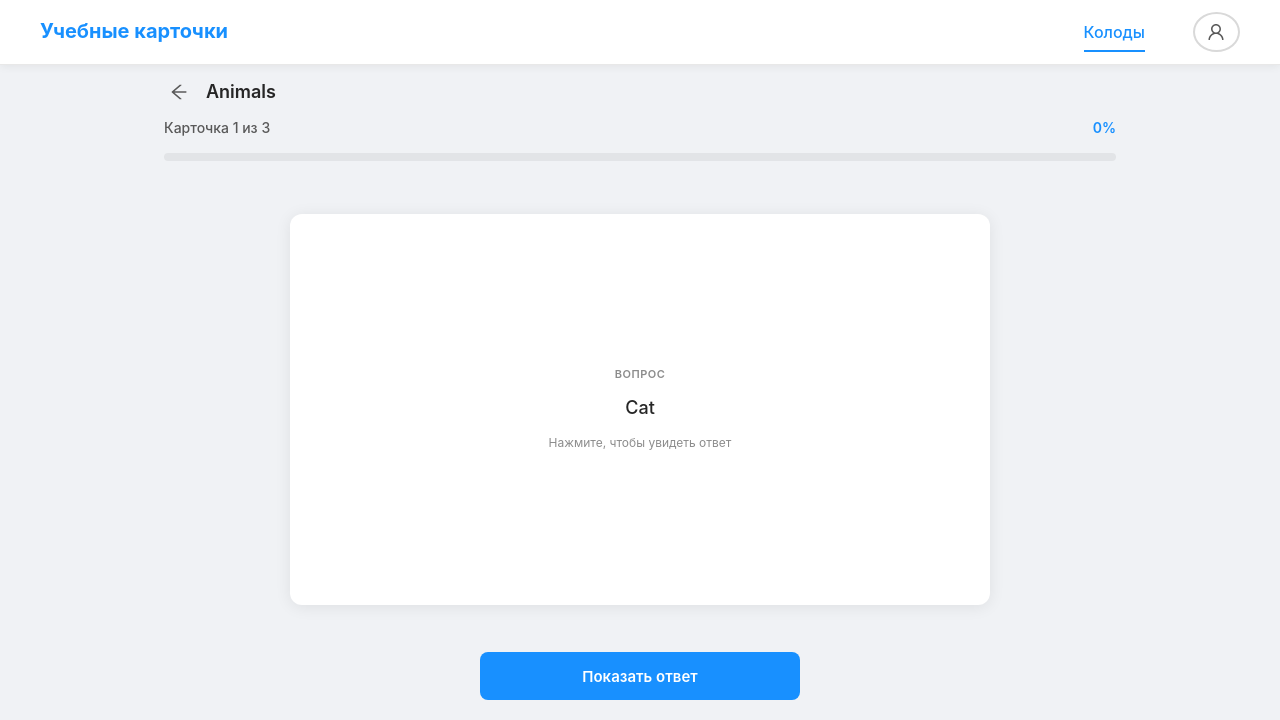
Test case: IT-F-03.1 Прохождение сессии обучения с подсчетом результатов › проходит 3 карточки и отправляет результаты remembered/forgotten/remembered
expect the text "Cat" is shown: met, box [625,395,655,420]
expect the text "Карточка 1 из 3" is shown: met, box [164,117,270,139]
Click the button "Показать ответ".
click(640, 676)  # box [480,652,800,700]
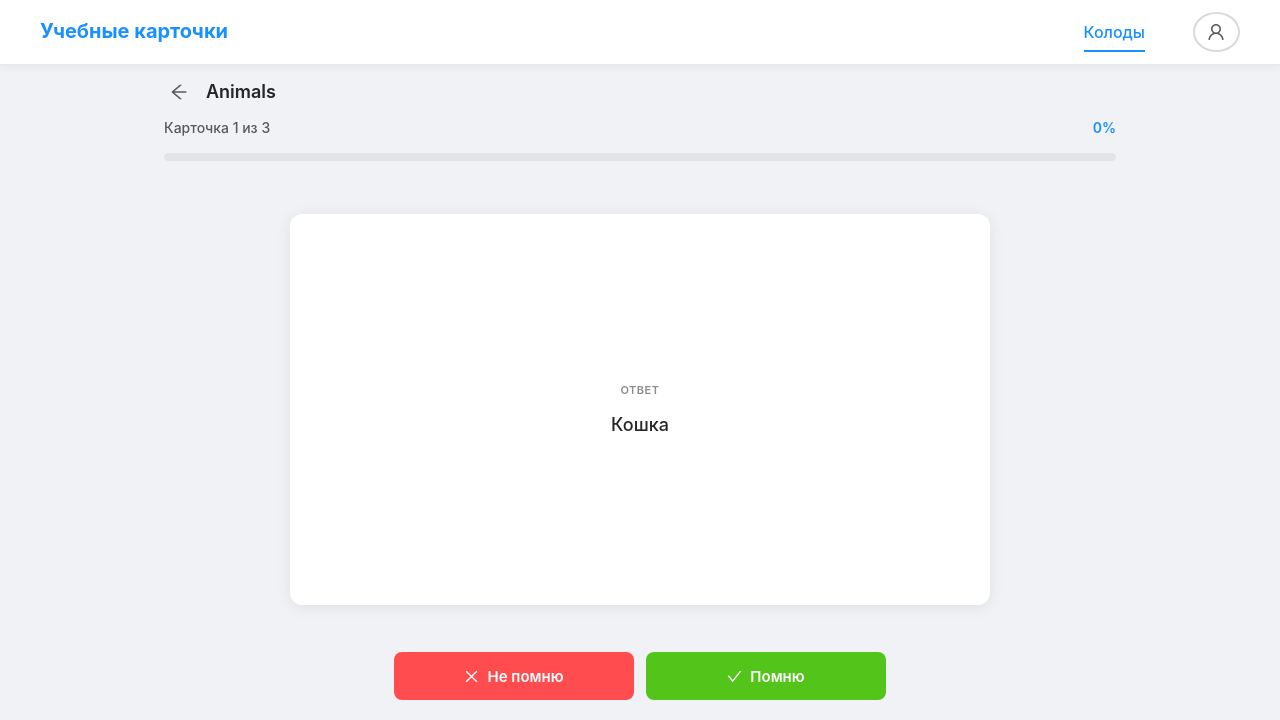
expect the text "Кошка" is shown: met, box [611,412,669,437]
expect the button named "check Помню" is enabled: met
expect the button named "close Не помню" is enabled: met, box [394,652,634,700]
Click the button named "check Помню".
click(766, 676)  # box [646,652,886,700]
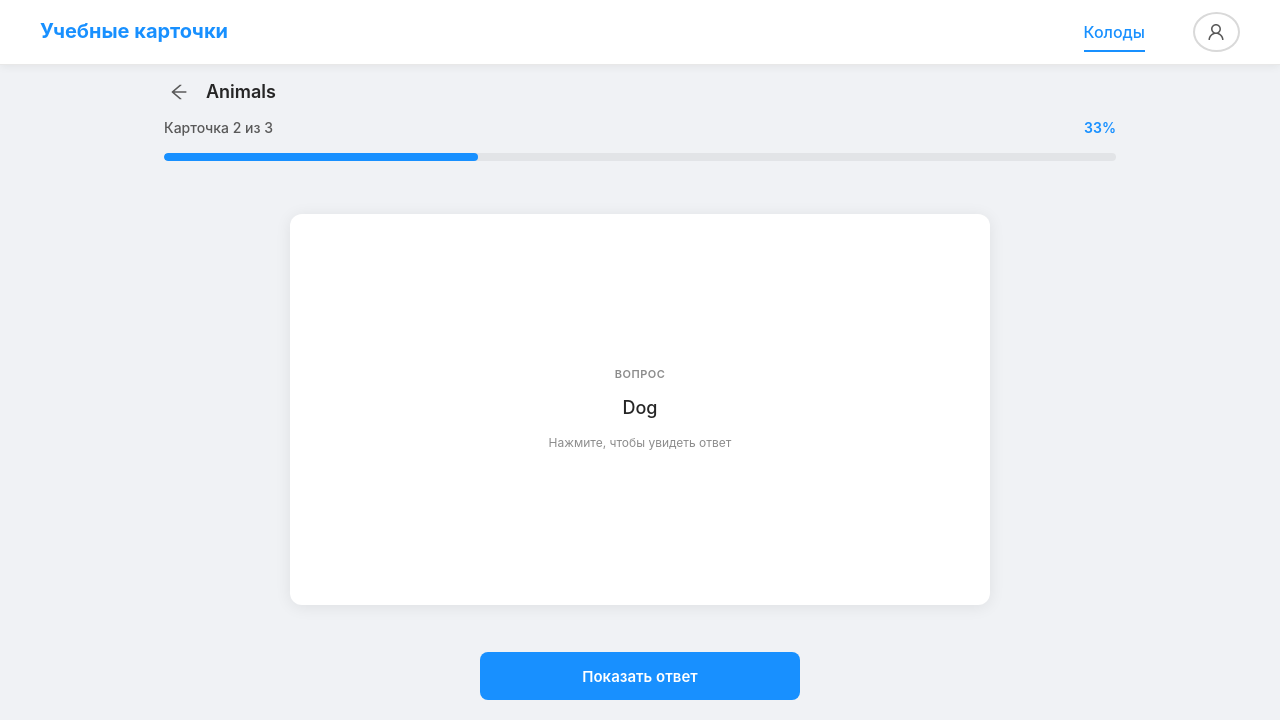
expect the text "Dog" is shown: met, box [622,395,658,420]
expect the text "Карточка 2 из 3" is shown: met, box [164,117,273,139]
Click the button "Показать ответ".
click(640, 676)  # box [480,652,800,700]
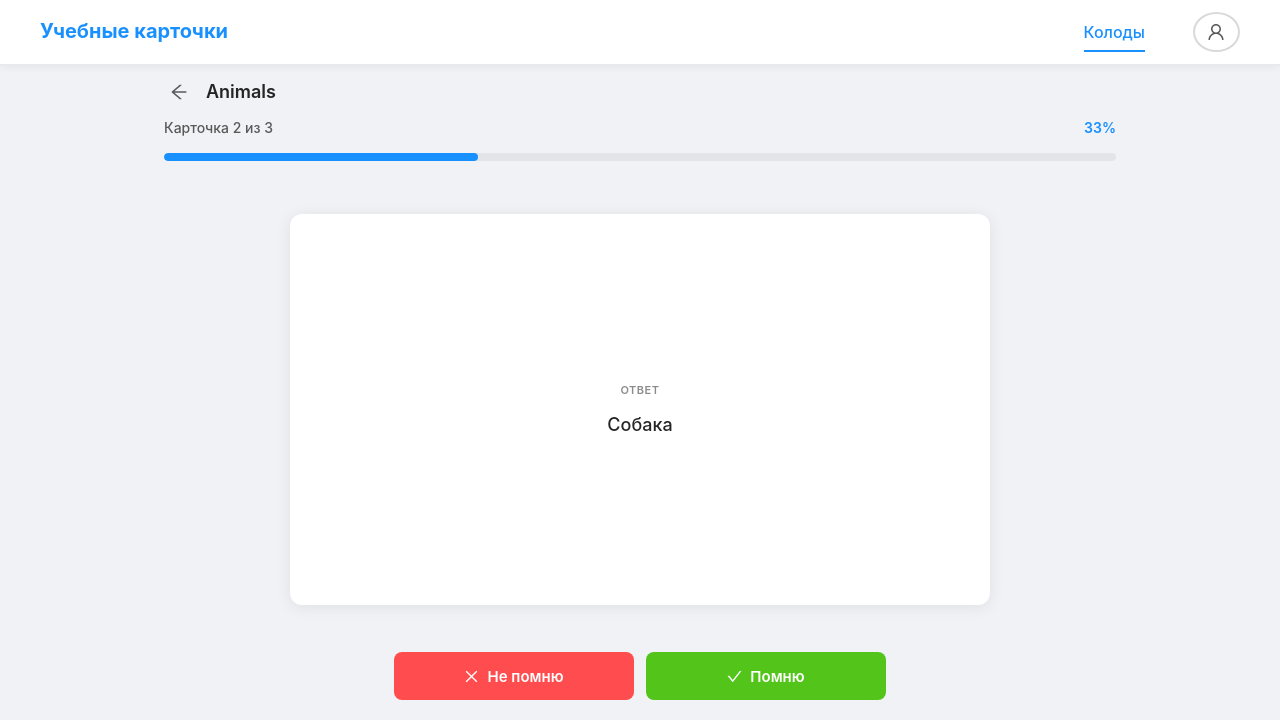
Click the button named "close Не помню".
click(514, 676)  # box [394,652,634,700]
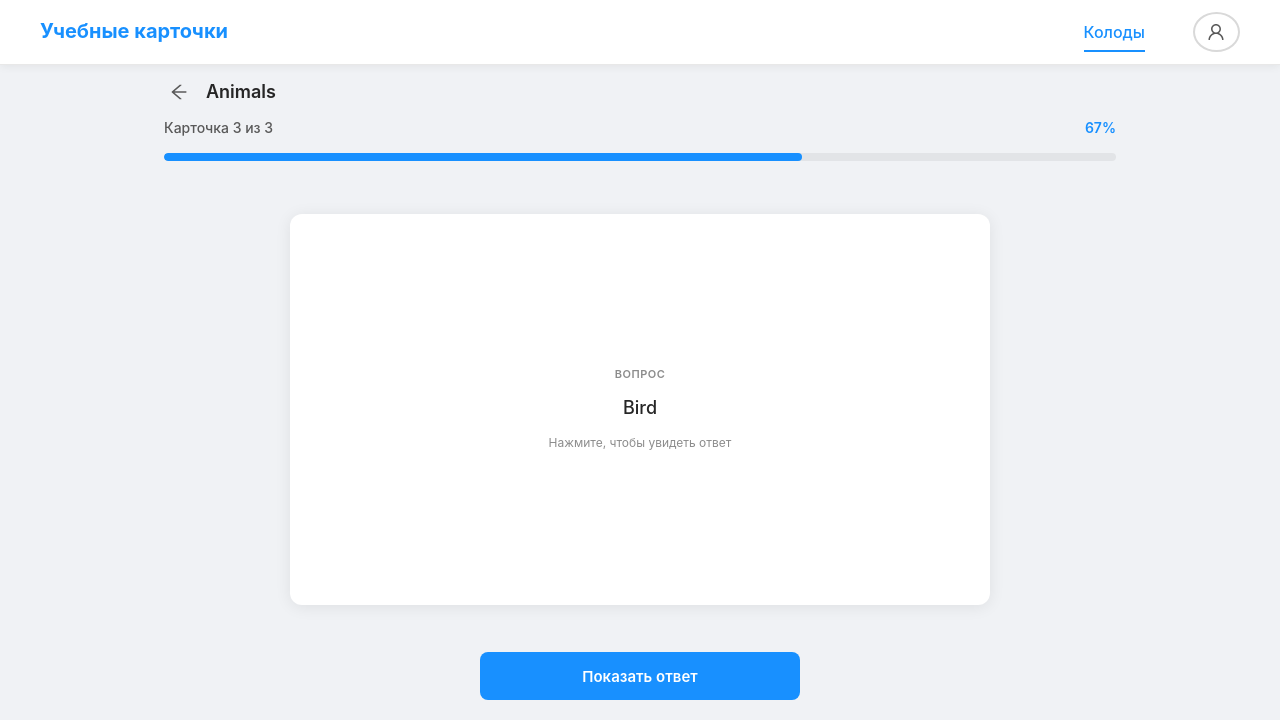
expect the text "Bird" is shown: met, box [623,395,657,420]
Click the button "Показать ответ".
click(640, 676)  # box [480,652,800,700]
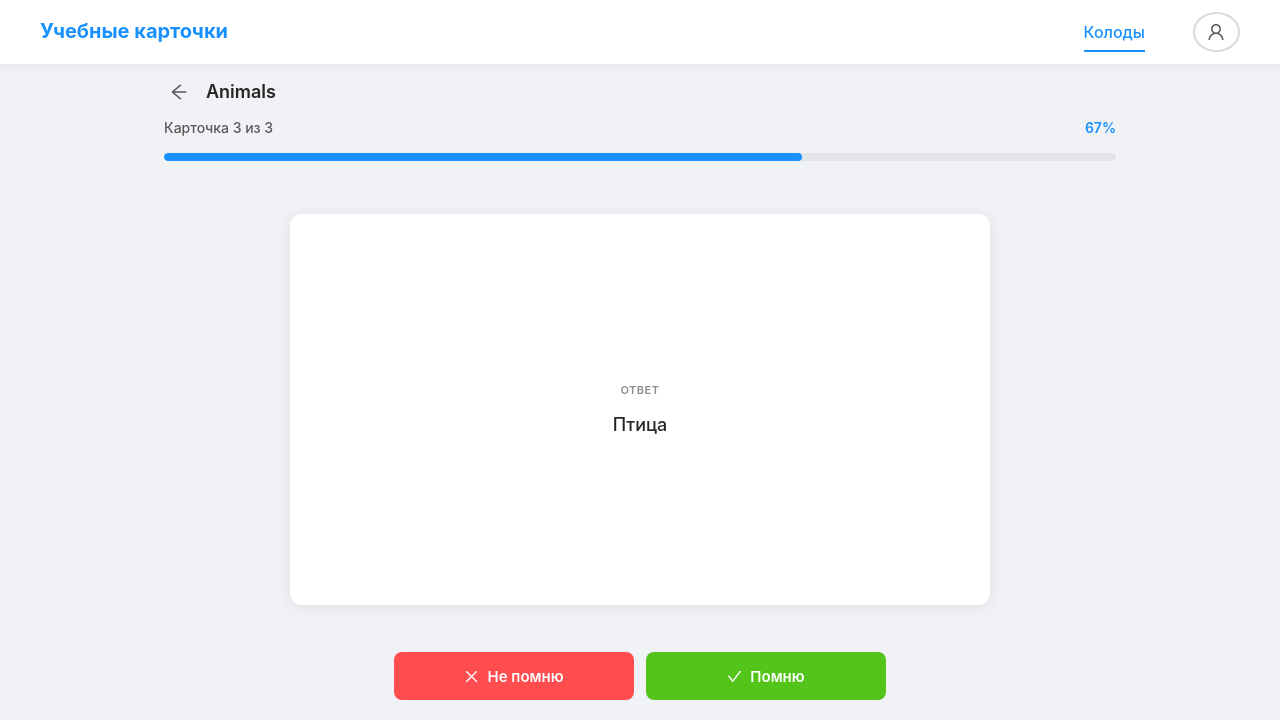
Click the button named "check Помню".
click(766, 676)  # box [646,652,886,700]
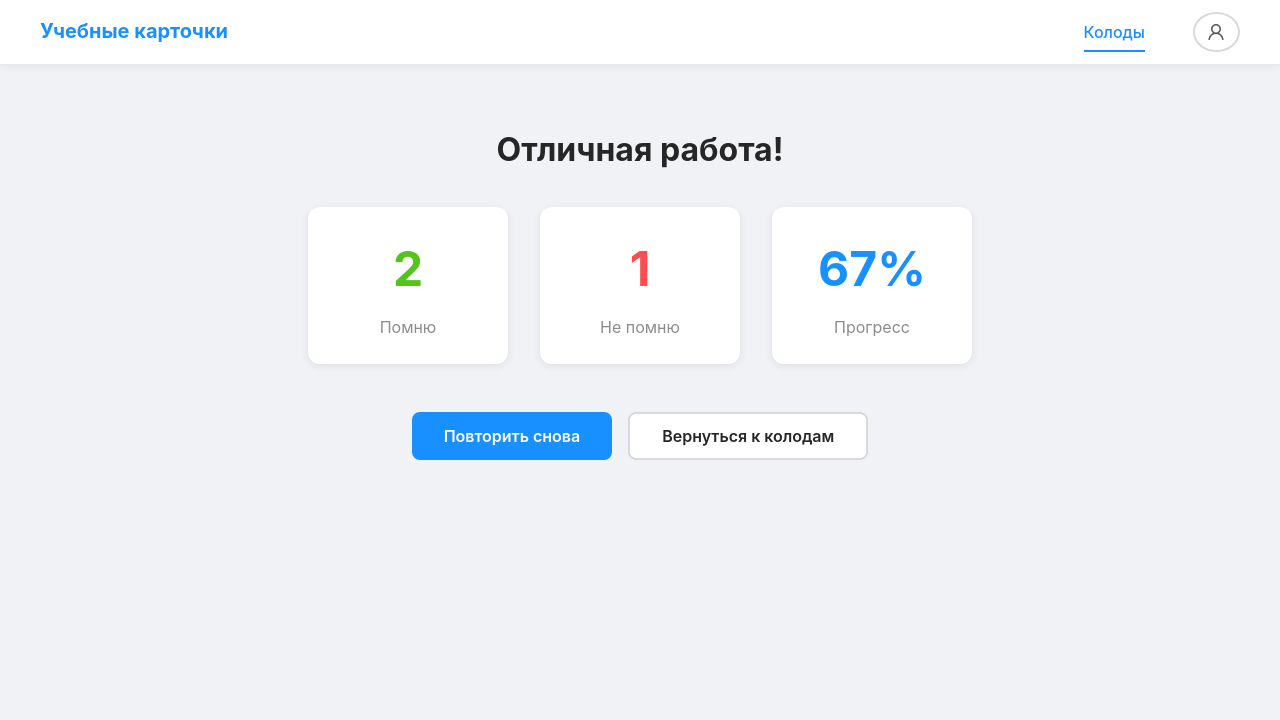
expect the text "Помню" is shown: met, box [380,317,436,337]
expect the text "Не помню" is shown: met, box [600,317,680,337]
expect the heading "Отличная работа!" is shown: met, box [496,130,783,169]
